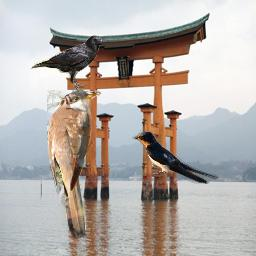Crow: (29, 35, 102, 93)
Cuckoo: (47, 90, 101, 239)
Swallow: (132, 129, 219, 184)
